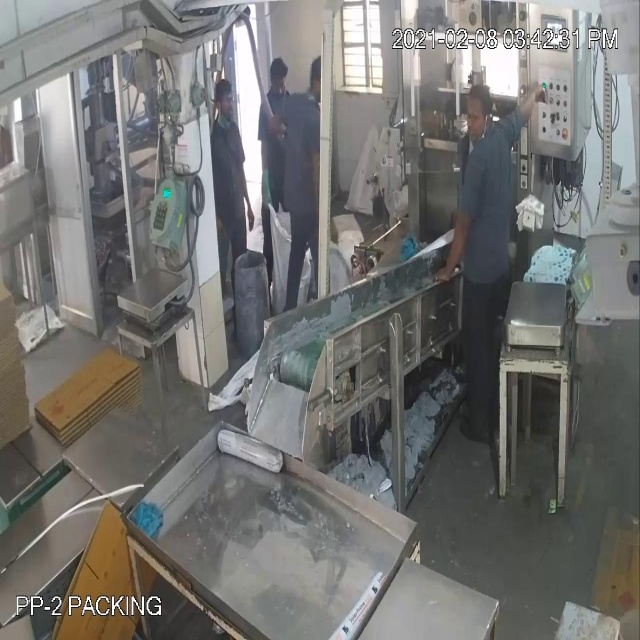Sin_guantes: (432, 200, 480, 286), (509, 81, 542, 137)
